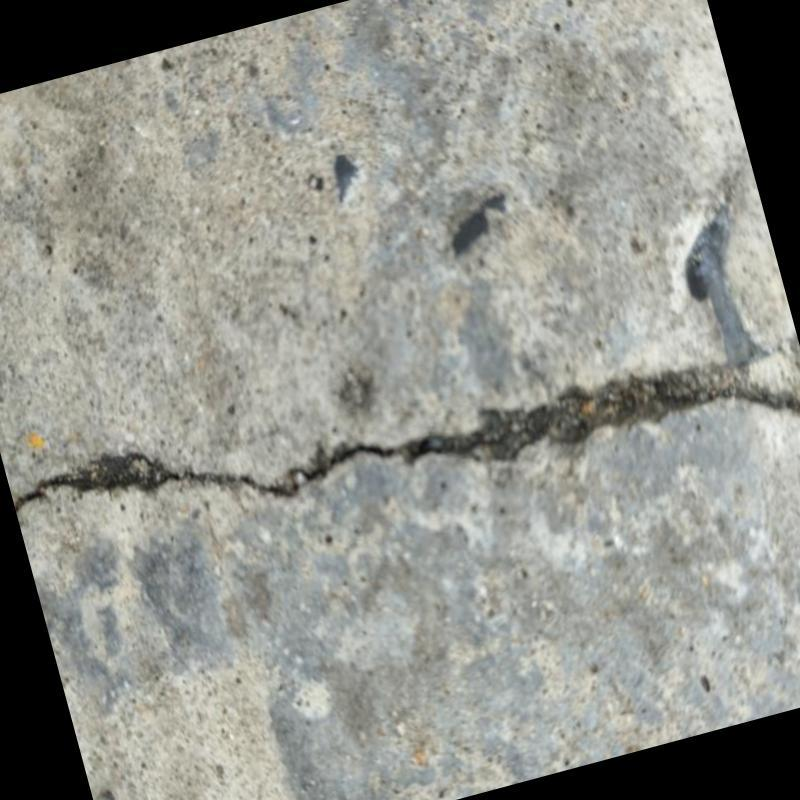pothole: (13, 335, 800, 510)
